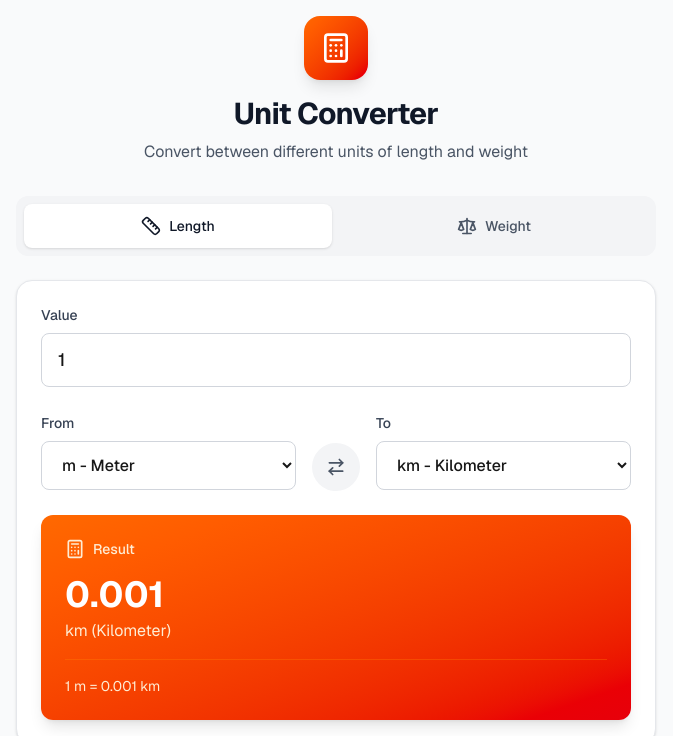
Test: UnitConverter › switches categories when Weight is clicked
Click the button "Weight" at point(494, 226), box x1=340 y1=204 x2=648 y2=248
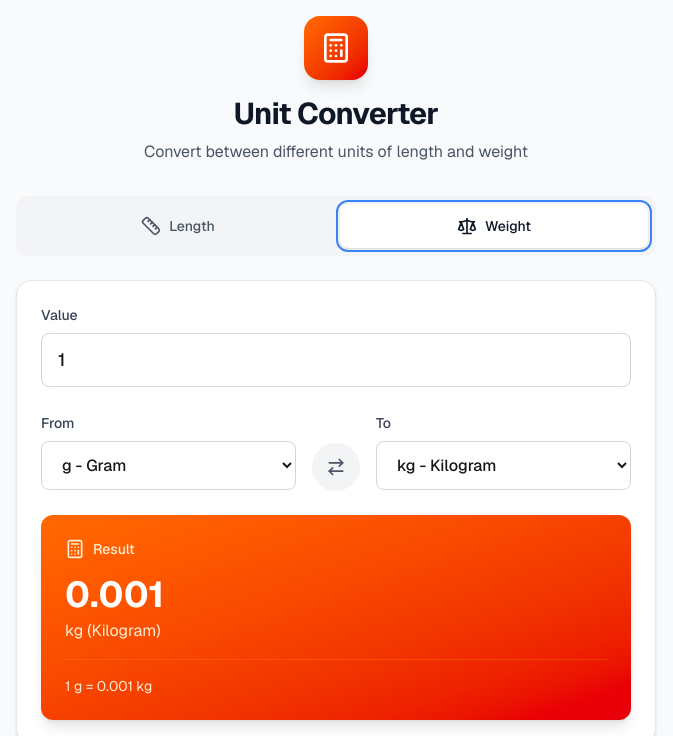
Result: the dropdown showing "g - Gram" below "From" is shown at x1=41 y1=440 x2=296 y2=490
Result: the dropdown showing "kg - Kilogram" below "To" is shown at x1=376 y1=440 x2=631 y2=490
